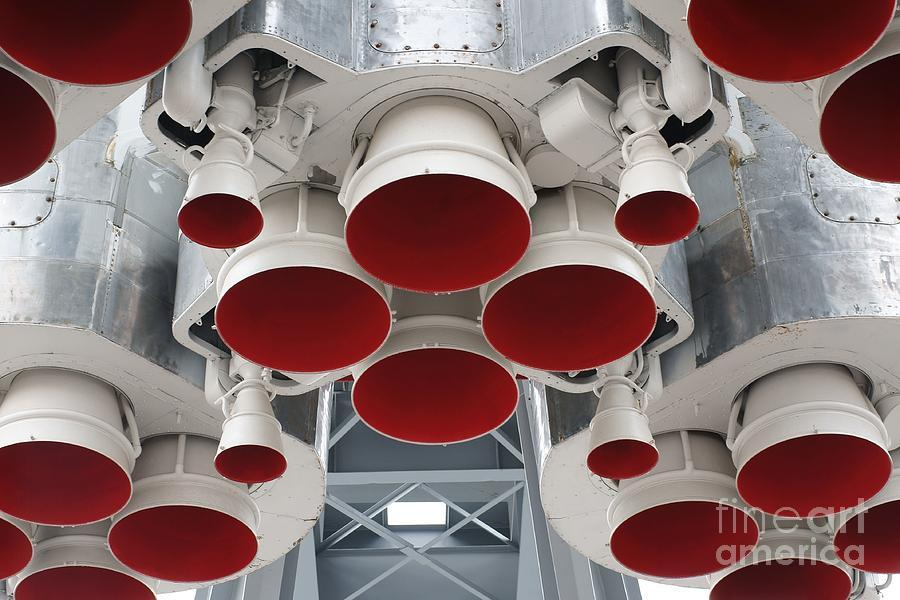thruster: (336, 103, 538, 296), (210, 190, 400, 376), (476, 190, 660, 375), (732, 375, 898, 521), (345, 313, 524, 447), (103, 438, 264, 586), (0, 368, 136, 529), (605, 456, 764, 582), (681, 0, 900, 87), (0, 0, 197, 91), (816, 50, 900, 187), (8, 533, 167, 600), (172, 151, 266, 252), (609, 156, 703, 249), (702, 544, 857, 600), (0, 61, 62, 195), (584, 382, 662, 482), (212, 391, 290, 484), (831, 495, 900, 578), (0, 517, 37, 586)
